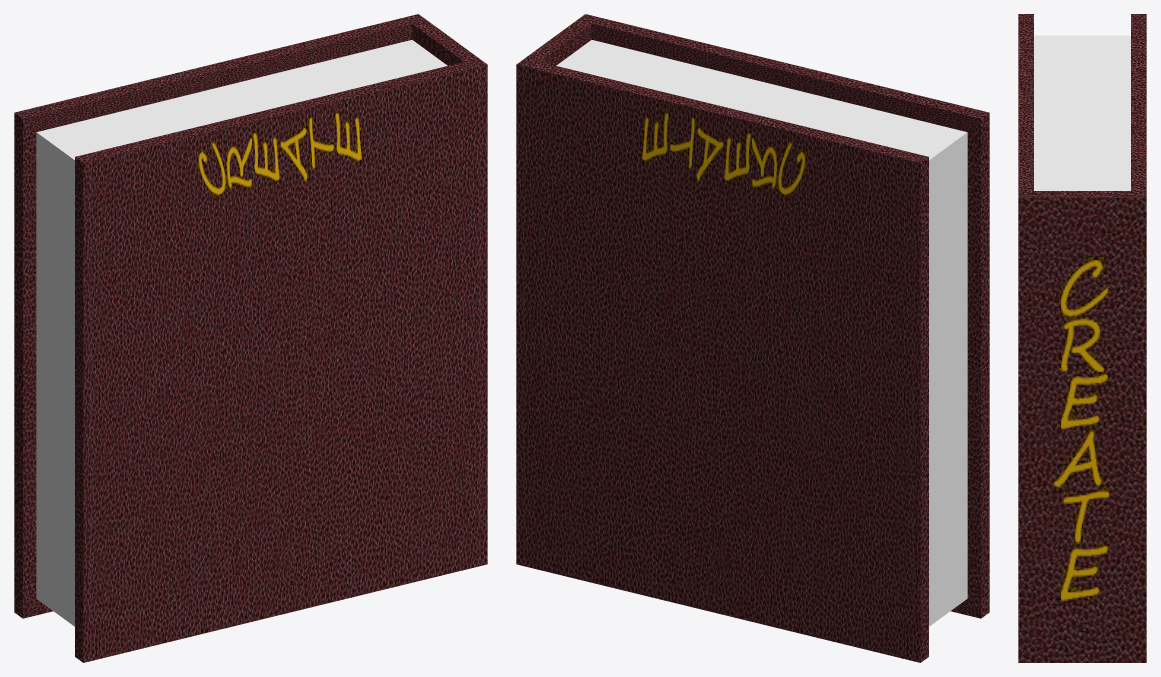
The model's file is BookCreate.obj.
3 views of the same model, side by side, from view 1: azimuth 30°, elevation 25°; view 2: azimuth 150°, elevation 25°; view 3: azimuth 270°, elevation 25° (orthographic). The views are drawn at different scales.
Parts seen in each view (by area): view 1: book.039; view 2: book.039; view 3: book.039.
Part boxes in pixels (x1,y1,x2,y2): book.039: [14, 14, 487, 662]; book.039: [516, 14, 989, 662]; book.039: [1018, 14, 1146, 662].
Size of the model in its own units: 0.2094 by 0.2476 by 0.0619.
